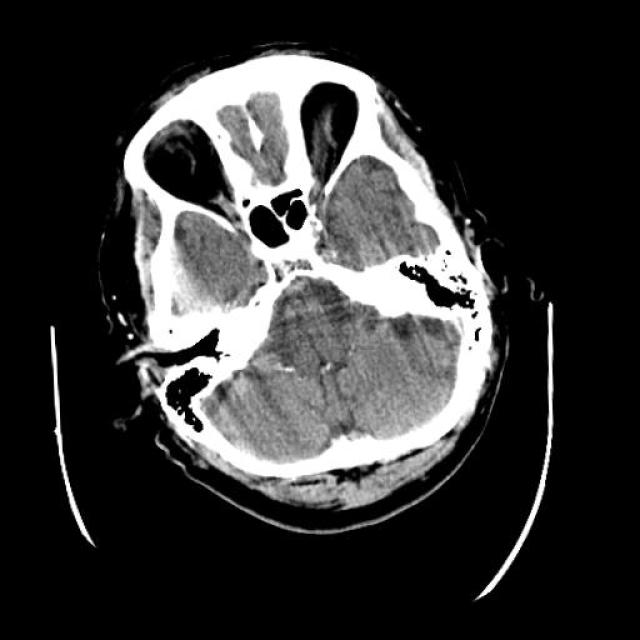Subdural: (131, 238, 219, 330)
